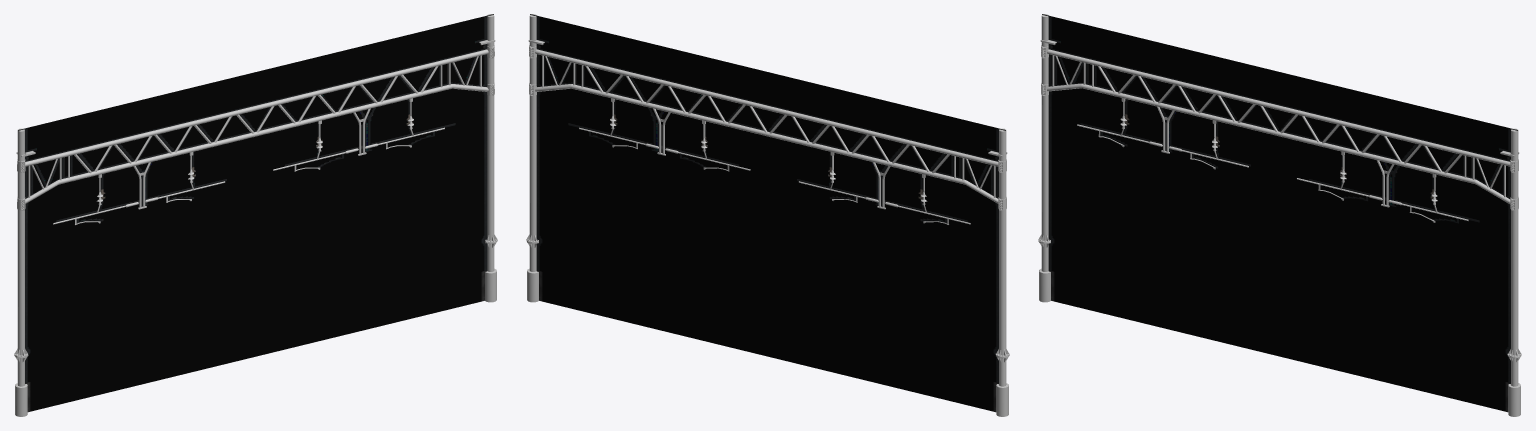
File: lineGate.fbx
3 renders of one model, left to right at view 1: azimuth 30°, elevation 25°; view 2: azimuth 150°, elevation 25°; view 3: azimuth 330°, elevation 25°, orthographic.
Parts seen in each view (by area): view 1: Plane, INST("w20_linegate_a01_ins", visual).002; view 2: Plane, INST("w20_linegate_a01_ins", visual).002; view 3: Plane, INST("w20_linegate_a01_ins", visual).002.
Part boxes in pixels (x1,y1,x2,y2): Plane: [18, 14, 493, 412]; INST("w20_linegate_a01_ins", visual).002: [14, 14, 497, 416]; Plane: [530, 14, 1005, 412]; INST("w20_linegate_a01_ins", visual).002: [526, 14, 1009, 416]; Plane: [1042, 14, 1517, 412]; INST("w20_linegate_a01_ins", visual).002: [1038, 14, 1521, 416].
Bounding box in the file's own units: 3417 × 1935 × 83.11.
